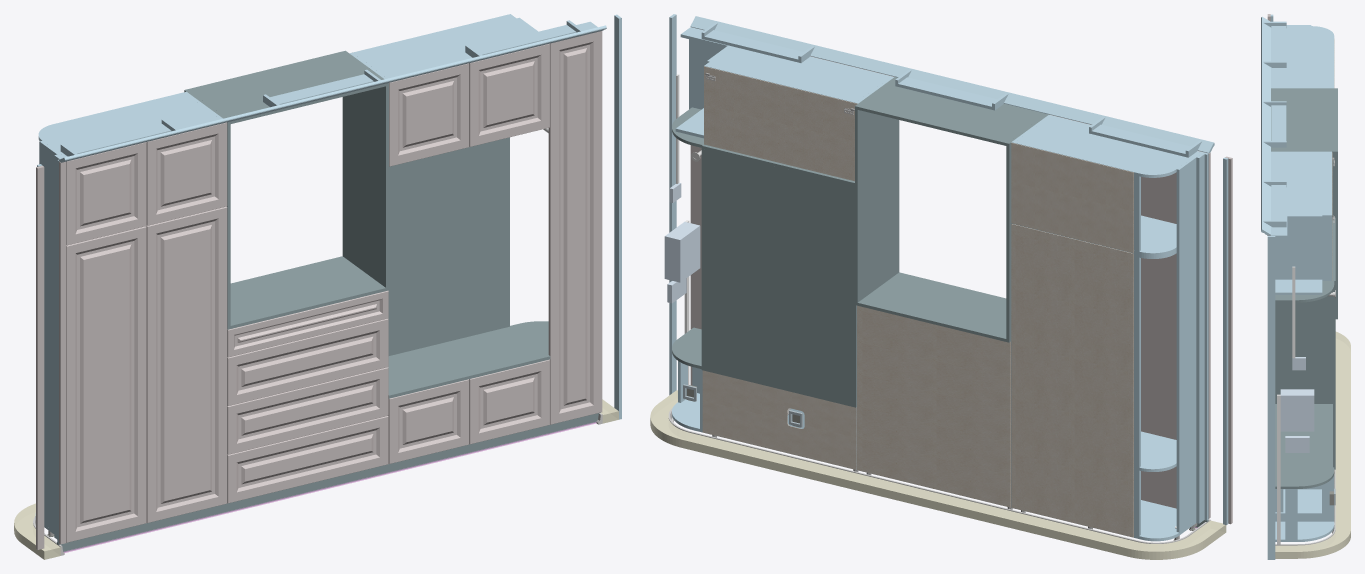
3 renders of one model, left to right at view 1: azimuth 30°, elevation 25°; view 2: azimuth 150°, elevation 25°; view 3: azimuth 270°, elevation 25°, orthographic. The views are drawn at different scales.
Visible parts, largest first — view 1: Shape_IndexedFaceSet.111, Shape_IndexedFaceSet.110, Shape_IndexedFaceSet.311, Shape_IndexedFaceSet.393, Shape_IndexedFaceSet.236, Shape_IndexedFaceSet.237, Shape_IndexedFaceSet.235, Shape_IndexedFaceSet.300, Shape_IndexedFaceSet.138, Shape_IndexedFaceSet.137, Shape_IndexedFaceSet.357, Shape_IndexedFaceSet.358 (+27 smaller); view 2: Shape_IndexedFaceSet.103, Shape_IndexedFaceSet.311, Shape_IndexedFaceSet.191, Shape_IndexedFaceSet.354, Shape_IndexedFaceSet, Shape_IndexedFaceSet.131, Shape_IndexedFaceSet.340, Shape_IndexedFaceSet.110, Shape_IndexedFaceSet.300, Shape_IndexedFaceSet.302, Shape_IndexedFaceSet.295, Shape_IndexedFaceSet.020 (+30 smaller); view 3: Shape_IndexedFaceSet, Shape_IndexedFaceSet.173, Shape_IndexedFaceSet.302, Shape_IndexedFaceSet.125, Shape_IndexedFaceSet.348, Shape_IndexedFaceSet.444, Shape_IndexedFaceSet.438, Shape_IndexedFaceSet.306, Shape_IndexedFaceSet.300, Shape_IndexedFaceSet.002, Shape_IndexedFaceSet.449, Shape_IndexedFaceSet.399 (+25 smaller).
Boxes of the visible parts, left/top/right/bottom form: Shape_IndexedFaceSet.111: left=146, top=206, right=227, bottom=522; Shape_IndexedFaceSet.110: left=66, top=226, right=146, bottom=542; Shape_IndexedFaceSet.311: left=388, top=137, right=509, bottom=355; Shape_IndexedFaceSet.393: left=548, top=31, right=602, bottom=424; Shape_IndexedFaceSet.236: left=227, top=416, right=388, bottom=503; Shape_IndexedFaceSet.237: left=227, top=318, right=388, bottom=405; Shape_IndexedFaceSet.235: left=227, top=367, right=388, bottom=454; Shape_IndexedFaceSet.300: left=342, top=86, right=385, bottom=287; Shape_IndexedFaceSet.138: left=146, top=122, right=227, bottom=225; Shape_IndexedFaceSet.137: left=66, top=142, right=146, bottom=245; Shape_IndexedFaceSet.357: left=389, top=63, right=469, bottom=166; Shape_IndexedFaceSet.358: left=469, top=43, right=549, bottom=146; Shape_IndexedFaceSet.103: left=1011, top=224, right=1133, bottom=537; Shape_IndexedFaceSet.311: left=701, top=149, right=855, bottom=404; Shape_IndexedFaceSet.191: left=857, top=305, right=1010, bottom=507; Shape_IndexedFaceSet.354: left=704, top=66, right=857, bottom=181; Shape_IndexedFaceSet: left=650, top=390, right=1226, bottom=559; Shape_IndexedFaceSet.131: left=1011, top=142, right=1133, bottom=252; Shape_IndexedFaceSet.340: left=702, top=370, right=856, bottom=469; Shape_IndexedFaceSet.110: left=1141, top=253, right=1176, bottom=508; Shape_IndexedFaceSet.300: left=857, top=110, right=899, bottom=302; Shape_IndexedFaceSet.302: left=857, top=78, right=1045, bottom=145; Shape_IndexedFaceSet.295: left=858, top=272, right=1006, bottom=338; Shape_IndexedFaceSet.020: left=1179, top=239, right=1196, bottom=532; Shape_IndexedFaceSet: left=1275, top=331, right=1350, bottom=558; Shape_IndexedFaceSet.173: left=1275, top=319, right=1332, bottom=403; Shape_IndexedFaceSet.302: left=1271, top=89, right=1337, bottom=150; Shape_IndexedFaceSet.125: left=1271, top=26, right=1334, bottom=87; Shape_IndexedFaceSet.348: left=1271, top=153, right=1331, bottom=213; Shape_IndexedFaceSet.444: left=1267, top=236, right=1275, bottom=559; Shape_IndexedFaceSet.438: left=1275, top=216, right=1322, bottom=279; Shape_IndexedFaceSet.306: left=1275, top=404, right=1332, bottom=467; Shape_IndexedFaceSet.300: left=1275, top=151, right=1337, bottom=319; Shape_IndexedFaceSet.002: left=1280, top=389, right=1314, bottom=431; Shape_IndexedFaceSet.449: left=1261, top=114, right=1270, bottom=235; Shape_IndexedFaceSet.399: left=1275, top=467, right=1334, bottom=486.
Size of the model in its own units: 3.57 by 2.34 by 0.5907.
17 materials, 5 textured.
